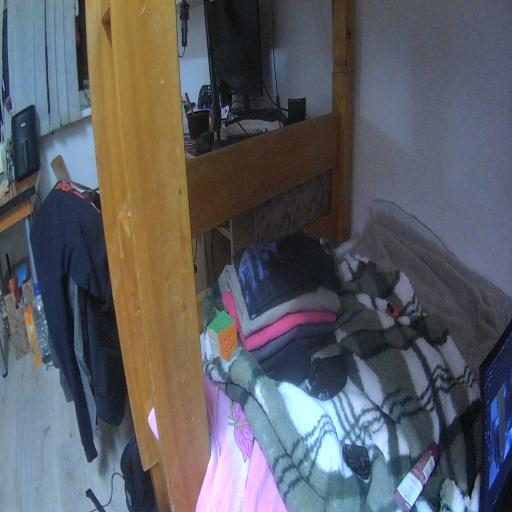Hand Cream: (392, 438, 440, 512)
Rubiks Cube: (206, 307, 239, 361)
Super Glue: (384, 298, 401, 320)
